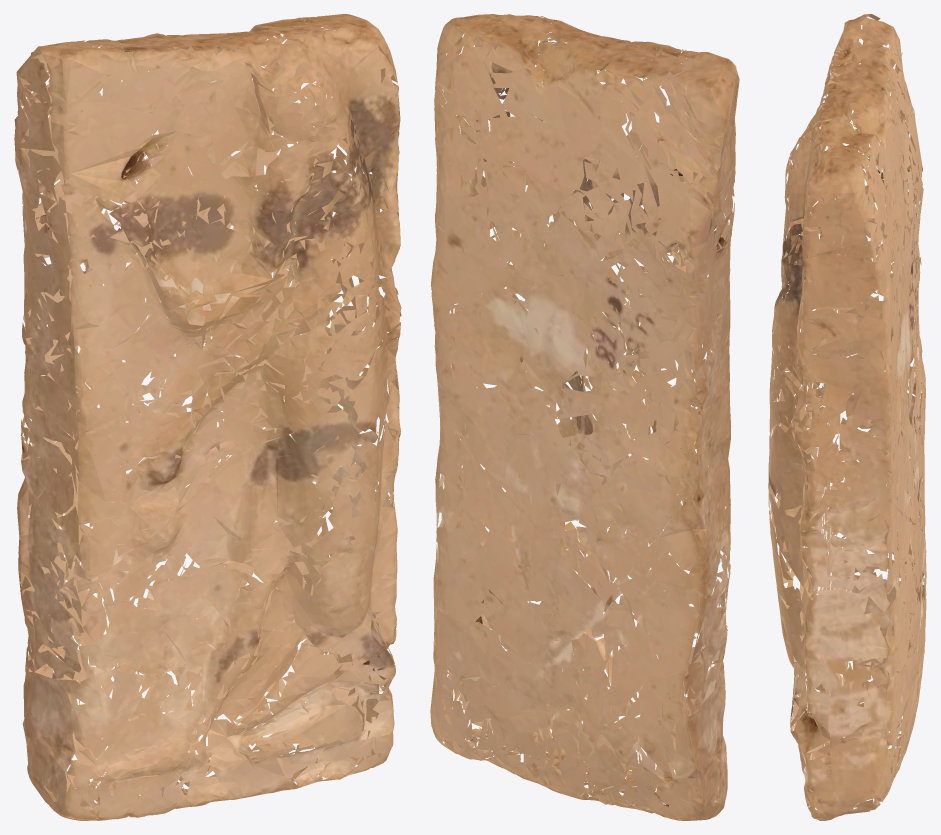
The model's file is sf-ypm-apkallu-plaque.glb.
The picture shows the model from 3 angles, left to right: view 1: azimuth 30°, elevation 25°; view 2: azimuth 150°, elevation 25°; view 3: azimuth 270°, elevation 25°; orthographic projection. The views are drawn at different scales.
Parts seen in each view (by area): view 1: Object_12, Object_11, Object_3, Object_2, Object_15, Object_6, Object_4, Object_13, Object_7, Object_8, Object_14, Object_5 (+6 smaller); view 2: Object_2, Object_11, Object_3, Object_4, Object_17, Object_13, Object_16, Object_12, Object_14, Object_7, Object_15, Object_8 (+5 smaller); view 3: Object_16, Object_6, Object_14, Object_5, Object_2, Object_9, Object_13, Object_3, Object_17, Object_4, Object_8, Object_11 (+6 smaller).
Boxes of the visible parts, x1=… form: Object_12: x1=15, y1=41, x2=360, y2=493; Object_11: x1=14, y1=39, x2=339, y2=559; Object_3: x1=17, y1=260, x2=385, y2=781; Object_2: x1=49, y1=213, x2=401, y2=720; Object_15: x1=18, y1=50, x2=398, y2=535; Object_6: x1=65, y1=320, x2=397, y2=819; Object_4: x1=21, y1=437, x2=394, y2=789; Object_13: x1=21, y1=18, x2=368, y2=501; Object_7: x1=79, y1=409, x2=398, y2=820; Object_8: x1=22, y1=308, x2=394, y2=820; Object_14: x1=21, y1=29, x2=400, y2=443; Object_5: x1=18, y1=306, x2=400, y2=808; Object_2: x1=431, y1=230, x2=730, y2=800; Object_11: x1=430, y1=49, x2=738, y2=544; Object_3: x1=431, y1=211, x2=730, y2=807; Object_4: x1=434, y1=387, x2=730, y2=819; Object_17: x1=457, y1=14, x2=733, y2=500; Object_13: x1=452, y1=14, x2=739, y2=508; Object_16: x1=434, y1=14, x2=734, y2=392; Object_12: x1=531, y1=75, x2=735, y2=498; Object_14: x1=432, y1=26, x2=738, y2=486; Object_7: x1=437, y1=371, x2=714, y2=812; Object_15: x1=441, y1=33, x2=735, y2=570; Object_8: x1=434, y1=530, x2=727, y2=820; Object_16: x1=781, y1=129, x2=923, y2=345; Object_6: x1=768, y1=444, x2=922, y2=808; Object_14: x1=770, y1=26, x2=919, y2=413; Object_5: x1=769, y1=423, x2=925, y2=808; Object_2: x1=769, y1=348, x2=926, y2=737; Object_9: x1=769, y1=424, x2=912, y2=810; Object_13: x1=770, y1=14, x2=923, y2=425; Object_3: x1=772, y1=319, x2=926, y2=807; Object_17: x1=777, y1=55, x2=922, y2=444; Object_4: x1=776, y1=462, x2=926, y2=812; Object_8: x1=780, y1=413, x2=926, y2=820; Object_11: x1=784, y1=29, x2=925, y2=547.
Bounding box in the file's own units: 0.0715 × 0.1599 × 0.0336.
1 material, 1 textured.
